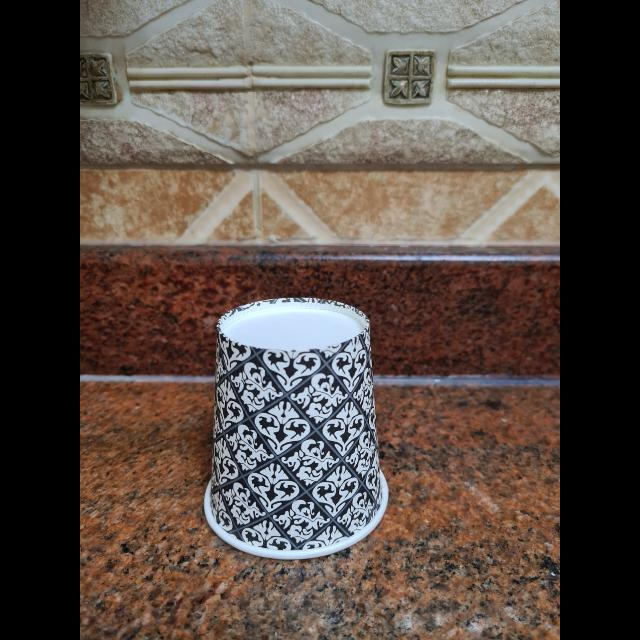trash: (198, 292, 390, 552)
